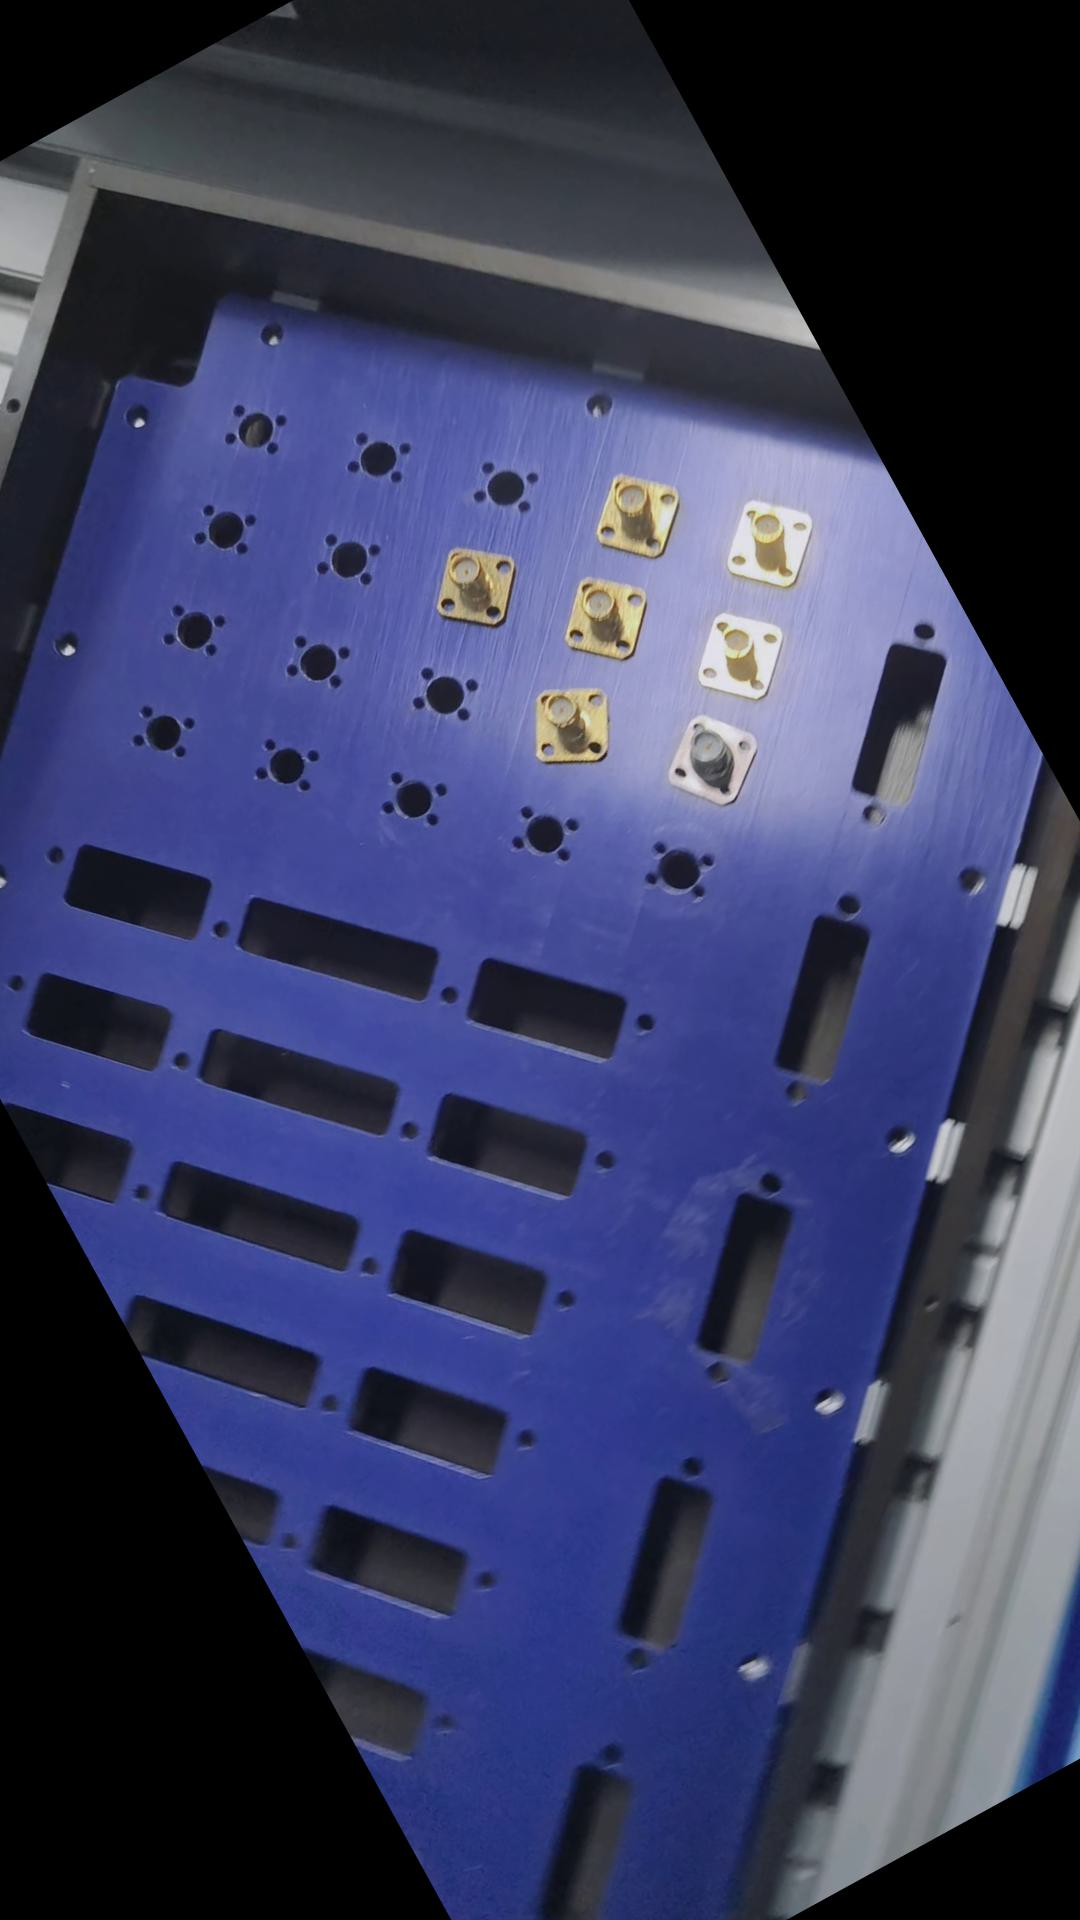SMA: (702, 476, 835, 608), (537, 556, 665, 684), (644, 692, 771, 819), (671, 593, 800, 717), (574, 454, 698, 578), (506, 665, 629, 786), (411, 525, 533, 644)
